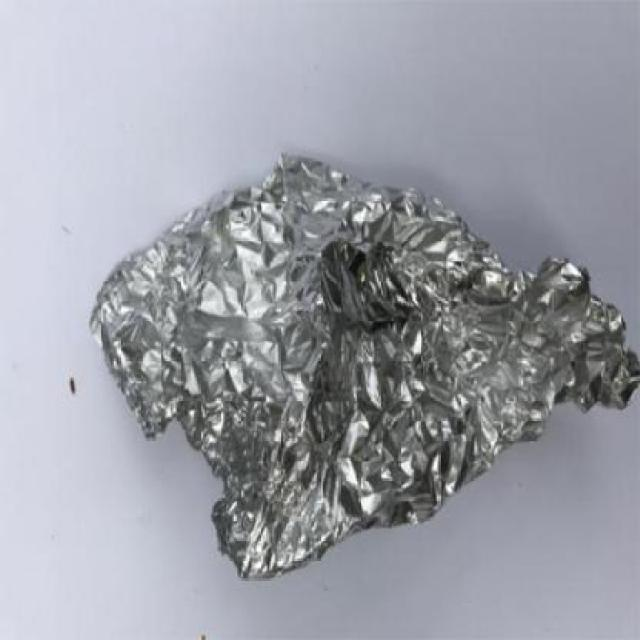Metal: (90, 149, 640, 583)
